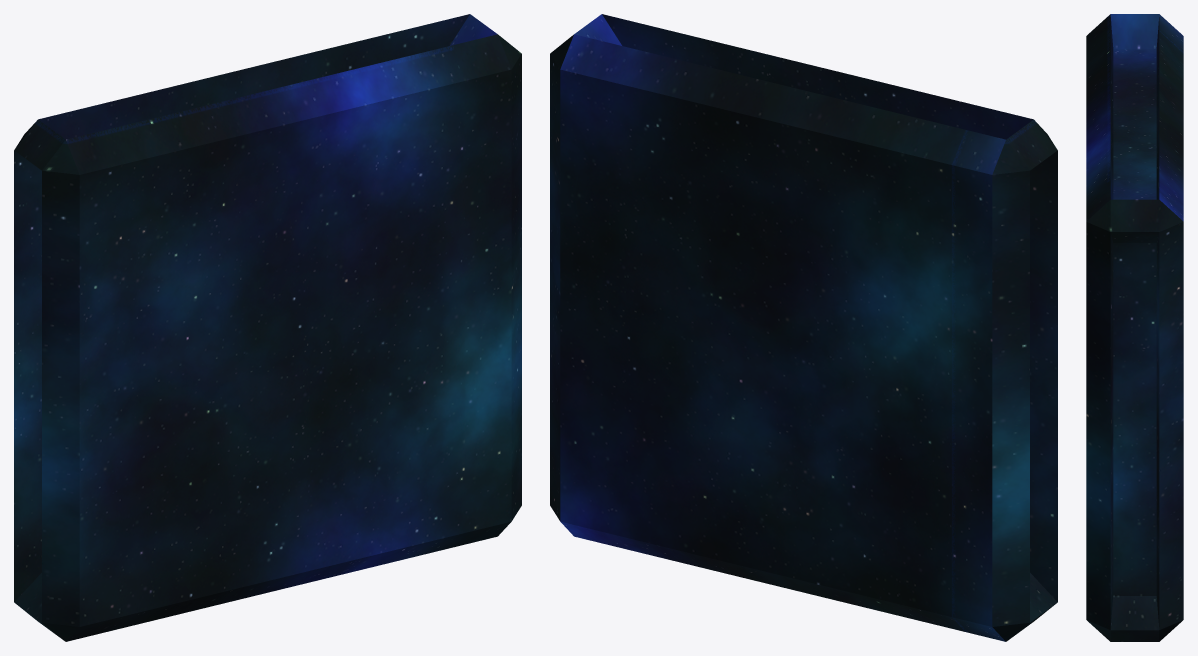
The model's file is Backboard.obj.
3 renders of one model, left to right at view 1: azimuth 30°, elevation 25°; view 2: azimuth 150°, elevation 25°; view 3: azimuth 270°, elevation 25°, orthographic. The views are drawn at different scales.
Parts seen in each view (by area): view 1: pCube1; view 2: pCube1; view 3: pCube1.
Boxes of the visible parts, left/top/right/bottom form: pCube1: left=14, top=14, right=521, bottom=641; pCube1: left=550, top=14, right=1057, bottom=641; pCube1: left=1086, top=14, right=1183, bottom=641.
Bounding box in the file's own units: 5 × 5 × 1.
1 material, 1 textured.
